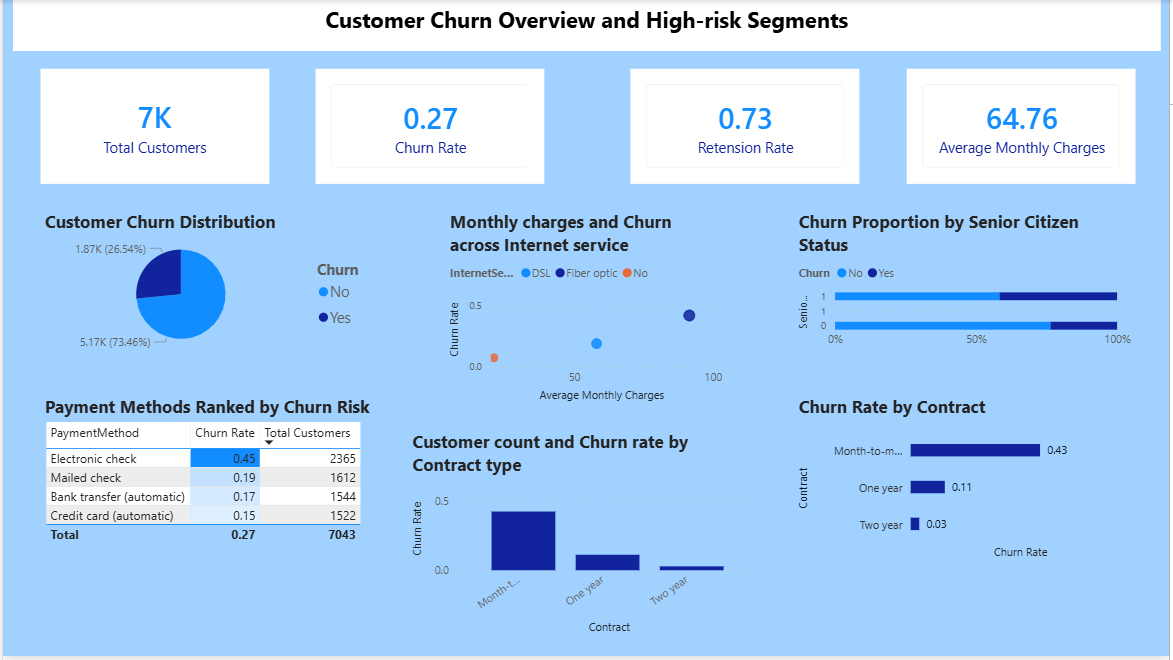

Layout of this report page (visuals, bound fields, positions):
{"tool":"powerbi","page":{"name":"Page 1","canvas":[1280,720],"ordinal":0},"visuals":[{"type":"clusteredBarChart","fields":{"Category":["Task2_cleaned.Contract"],"Y":["Task2_cleaned.Churn Rate"]},"box":[868.6,433.6,374.6,185.2],"z":0},{"type":"pieChart","title":"Customer Churn Distribution","fields":{"Category":["Task2_cleaned.Churn"],"Y":["CountNonNull(Task2_cleaned.Churn)"]},"box":[41.2,230.5,374.6,160.5],"z":1000},{"type":"clusteredColumnChart","title":"Customer count and Churn rate by Contract type","fields":{"Category":["Task2_cleaned.Contract"],"Y":["Task2_cleaned.Churn Rate"]},"box":[444.6,472,392.5,229.2],"z":2000},{"type":"tableEx","title":"Payment Methods Ranked by Churn Risk","fields":{"Values":["Task2_cleaned.PaymentMethod","Task2_cleaned.Churn Rate","Task2_cleaned.Total Customers"]},"box":[41.2,433.6,374.6,185.2],"z":3000},{"type":"hundredPercentStackedBarChart","title":"Churn Proportion by Senior Citizen Status","fields":{"Series":["Task2_cleaned.Churn"],"Category":["Task2_cleaned.SeniorCitizen"],"Y":["CountNonNull(Task2_cleaned.customerID)"]},"box":[868.6,230.5,374.6,160.5],"z":4000},{"type":"scatterChart","title":"Monthly charges and Churn across Internet service","fields":{"X":["Task2_cleaned.Average Monthly Charges"],"Y":["Task2_cleaned.Churn Rate"],"Series":["Task2_cleaned.InternetService"],"Size":["Task2_cleaned.Total Customers"]},"box":[485.8,230.5,308.7,215.4],"z":5000},{"type":"textbox","box":[11,0,1259.7,56.3],"z":6000},{"type":"cardVisual","fields":{"Data":["Task2_cleaned.Total Customers"]},"box":[41.2,75.5,251.1,126.2],"z":7000},{"type":"cardVisual","fields":{"Data":["Task2_cleaned.Churn Rate"]},"box":[343.1,75.5,251.1,126.2],"z":8000},{"type":"cardVisual","fields":{"Data":["Task2_cleaned.Retension Rate"]},"box":[688.9,75.5,251.1,126.2],"z":9000},{"type":"cardVisual","fields":{"Data":["Task2_cleaned.Average Monthly Charges"]},"box":[992.1,75.5,251.1,126.2],"z":10000}]}

Visuals, with their boxes in screenshot pixels (x1, y1, x2, y2), scaled from the page's 1280x720 canvas onto the 1173x660 screenshot:
clusteredBarChart - Task2_cleaned.Contract x Task2_cleaned.Churn Rate: select_region(796, 397, 1139, 567)
"Customer Churn Distribution" pieChart: select_region(38, 211, 381, 358)
"Customer count and Churn rate by Contract type" clusteredColumnChart: select_region(407, 433, 767, 643)
"Payment Methods Ranked by Churn Risk" tableEx: select_region(38, 397, 381, 567)
"Churn Proportion by Senior Citizen Status" hundredPercentStackedBarChart: select_region(796, 211, 1139, 358)
"Monthly charges and Churn across Internet service" scatterChart: select_region(445, 211, 728, 409)
textbox: select_region(10, 0, 1164, 52)
cardVisual - Task2_cleaned.Total Customers: select_region(38, 69, 268, 185)
cardVisual - Task2_cleaned.Churn Rate: select_region(314, 69, 545, 185)
cardVisual - Task2_cleaned.Retension Rate: select_region(631, 69, 861, 185)
cardVisual - Task2_cleaned.Average Monthly Charges: select_region(909, 69, 1139, 185)
